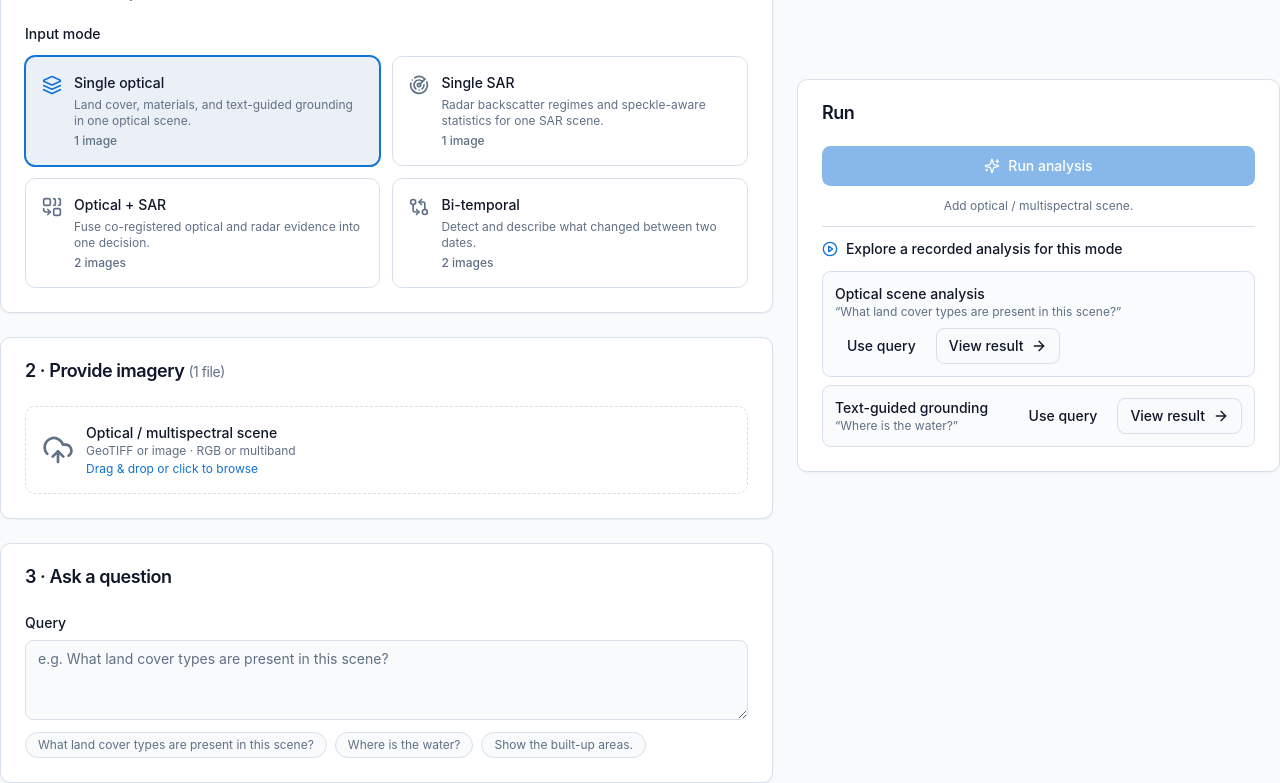
Test case: NewAnalysisPage › fills the query box from an example chip
The width and height of the screenshot is (1280, 783).
(page scrolled)
Click the button "Where is the water?": point(404, 745) [335, 732, 473, 758]
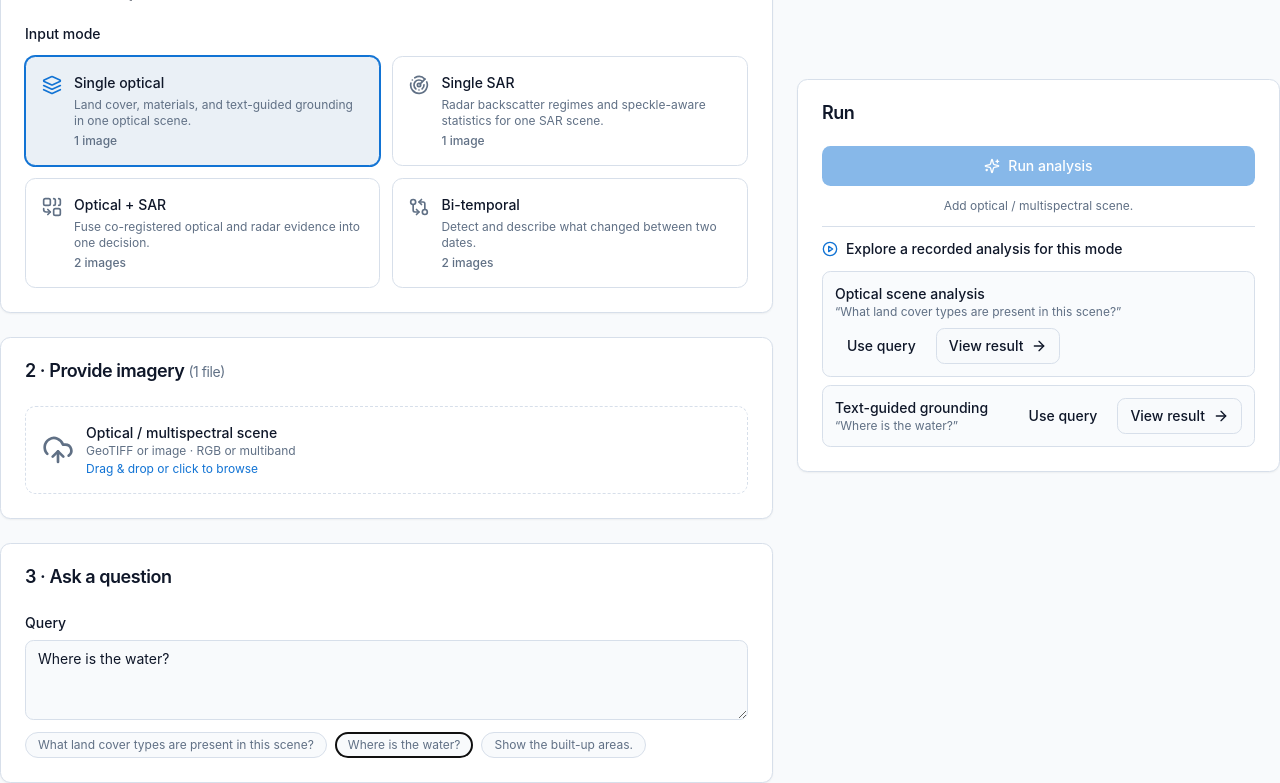
Check: the text box labelled "Query" holds "Where is the water?", box [25, 640, 748, 720]
